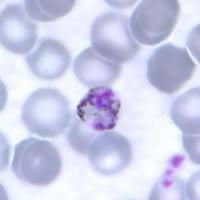Infected: (76, 86, 121, 130)
Uninfected: (11, 136, 61, 185), (90, 13, 140, 61), (146, 43, 193, 93), (21, 88, 69, 136), (129, 0, 179, 44), (86, 131, 131, 174), (25, 38, 70, 80), (73, 47, 120, 86), (0, 6, 36, 53), (170, 86, 199, 133), (66, 119, 95, 155)
